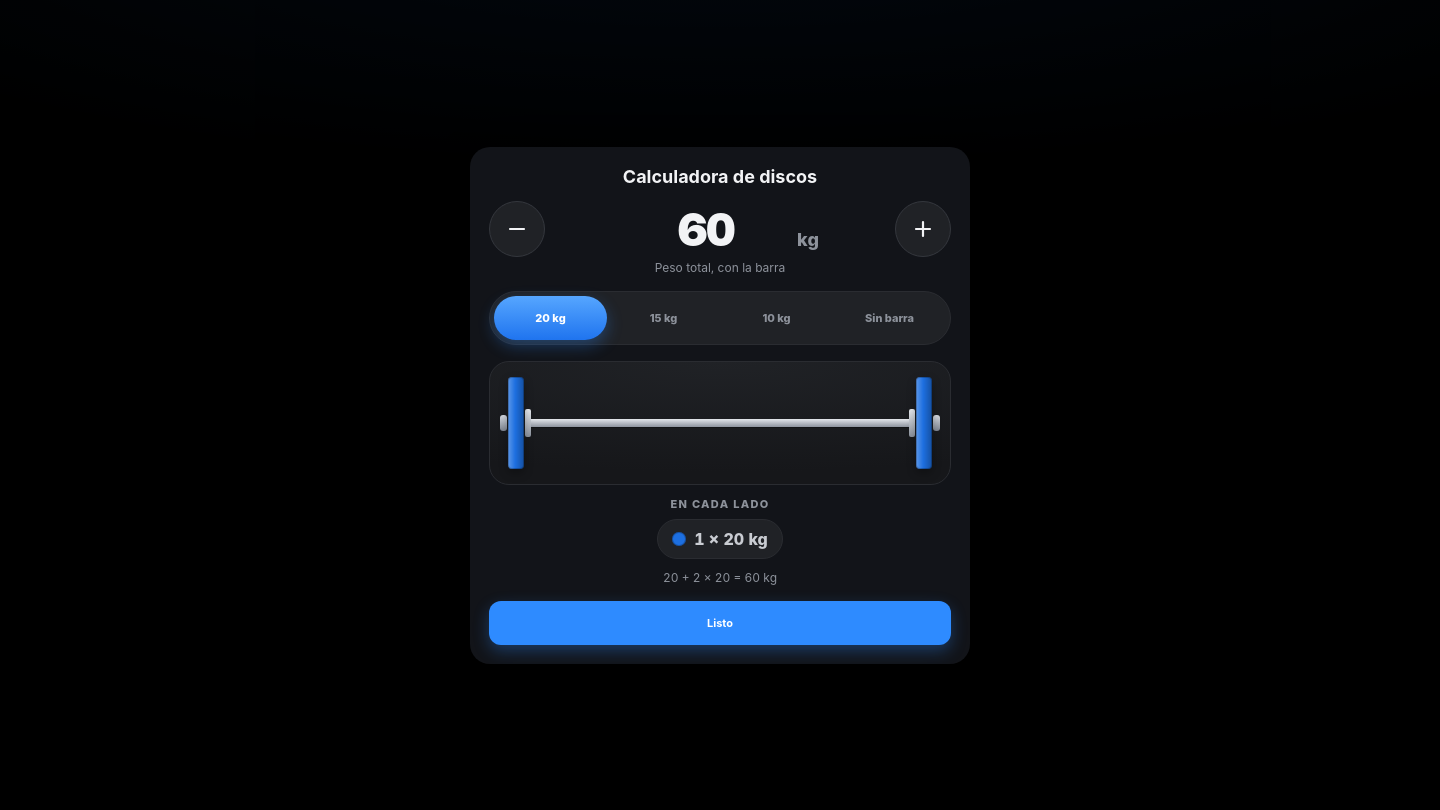
Test: Calculadora de discos › con − y + se cambia el peso de 2,5 en 2,5
Step 1. Click the button named "Sumar 2,5 kg" → (923, 228), box x1=895 y1=200 x2=951 y2=256
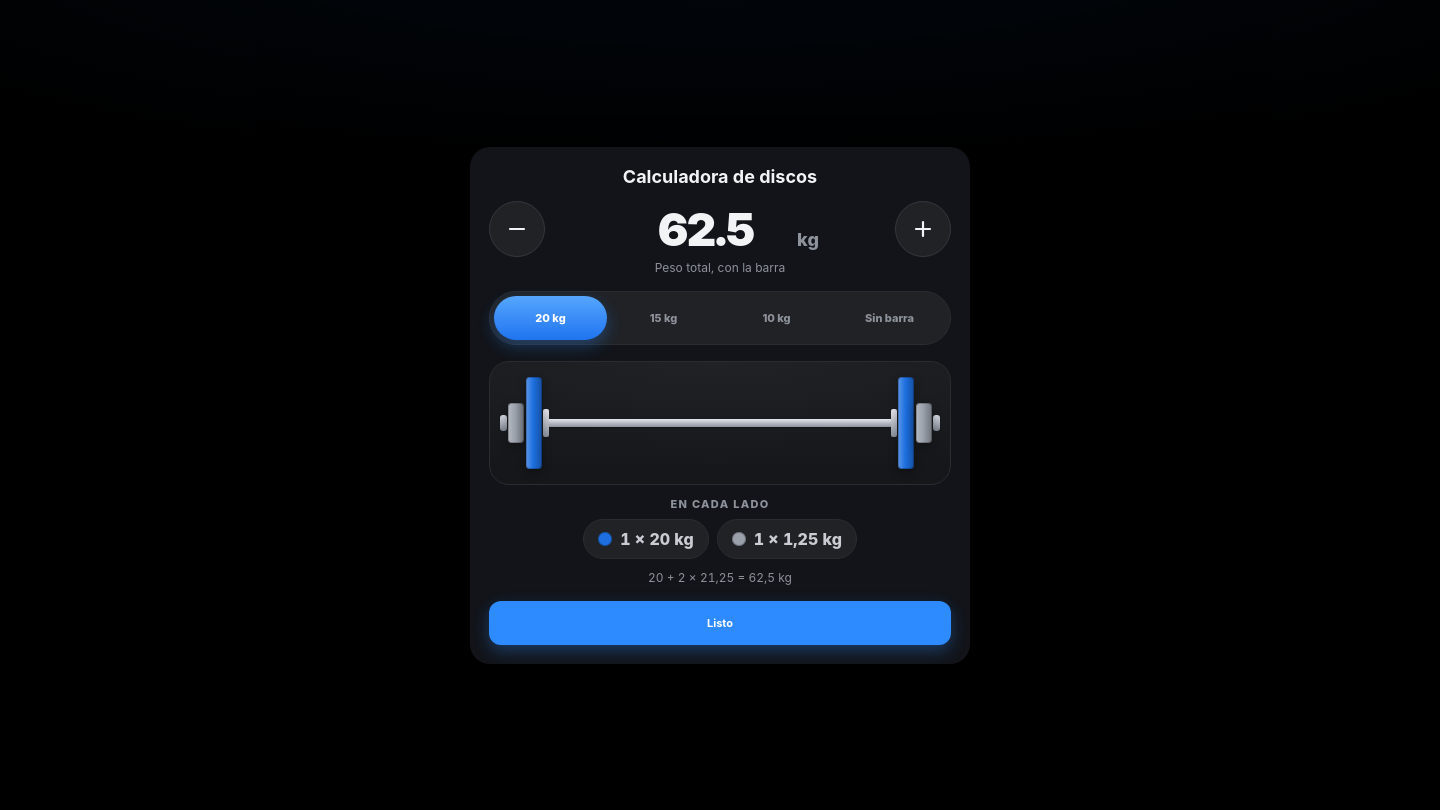
Expected: the number field named "Peso total" holds "62.5", x1=621 y1=200 x2=791 y2=256
Step 2. Click the button named "Restar 2,5 kg" → (517, 228), box x1=489 y1=200 x2=545 y2=256
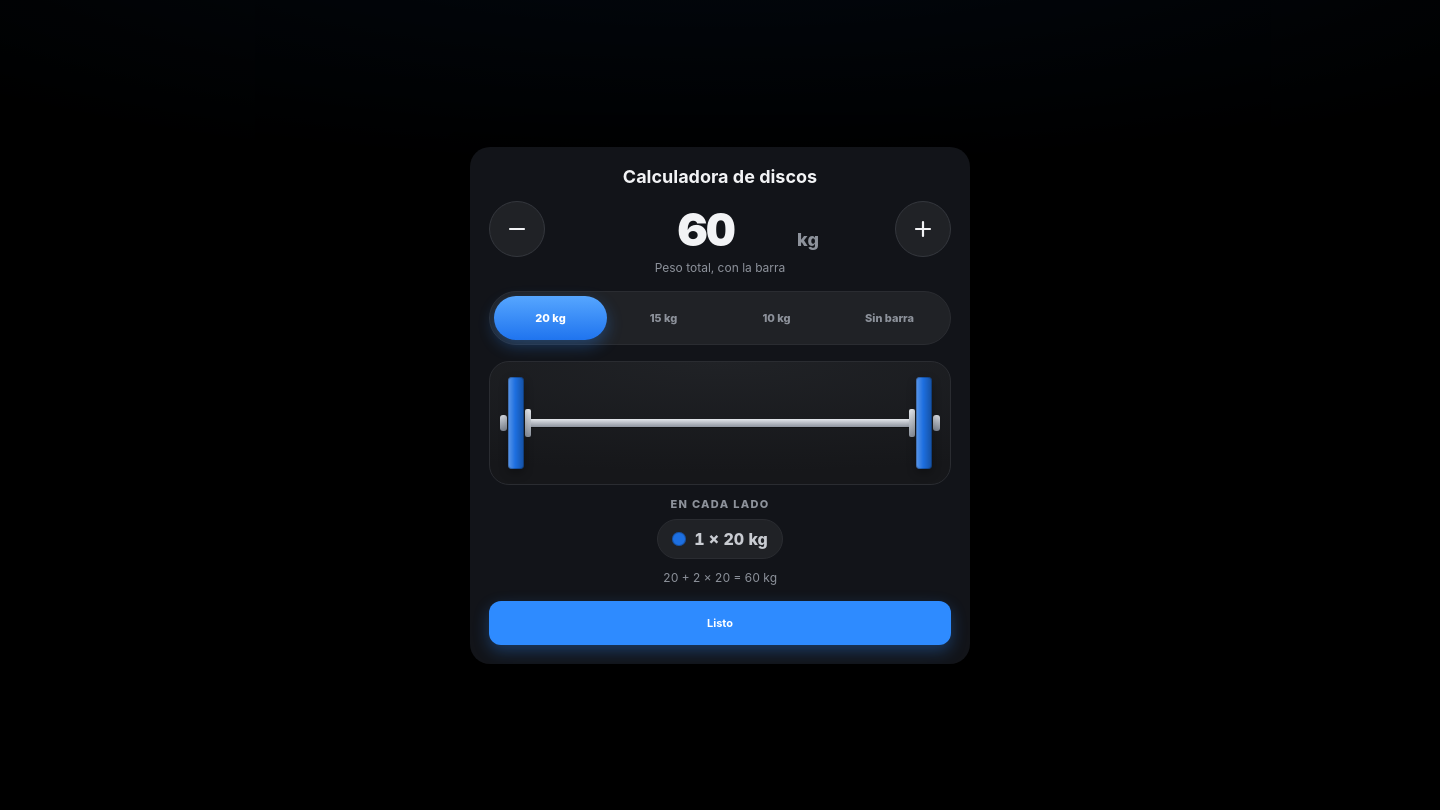
Step 3. Click the button named "Restar 2,5 kg" → (517, 228), box x1=489 y1=200 x2=545 y2=256
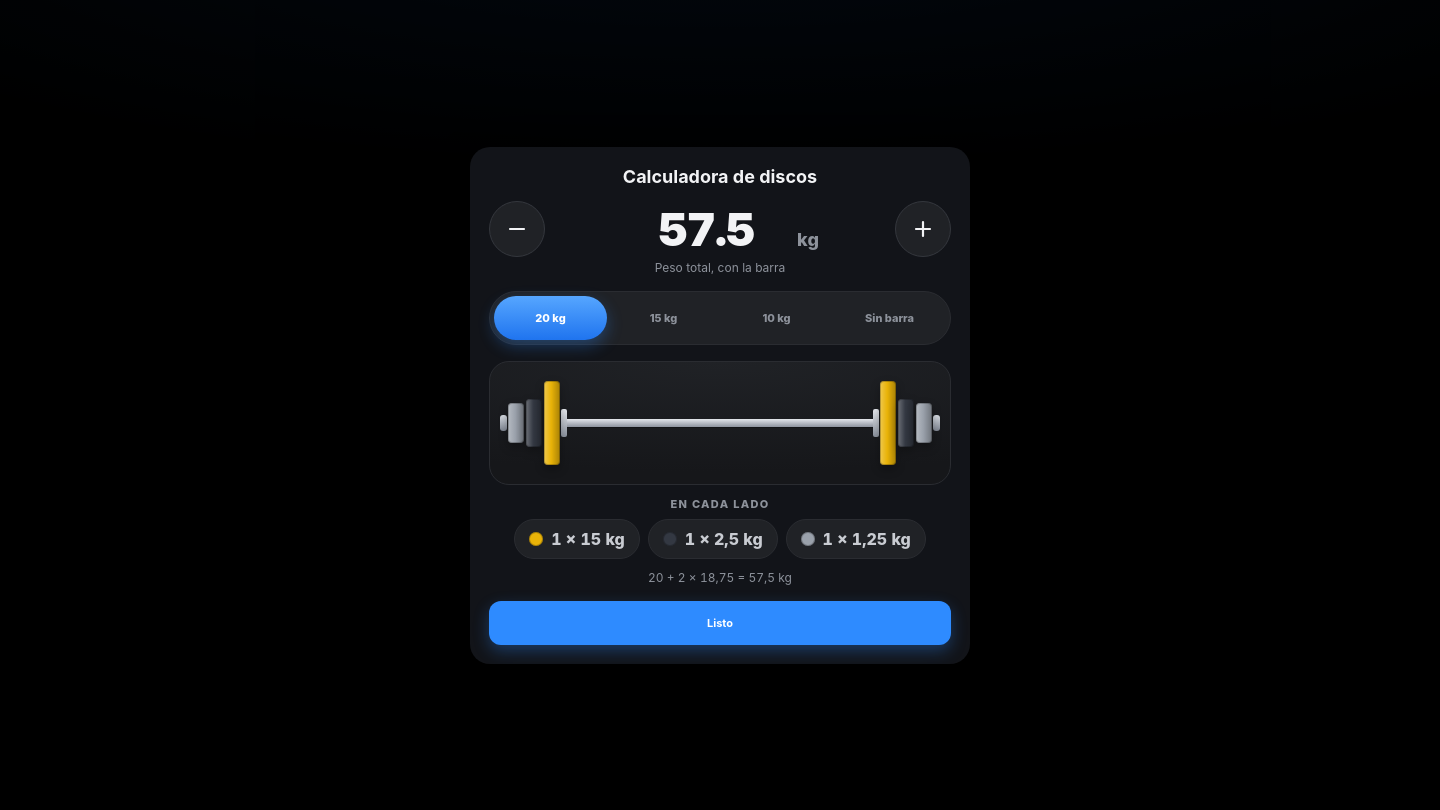
Expected: the number field named "Peso total" holds "57.5", x1=621 y1=200 x2=791 y2=256
